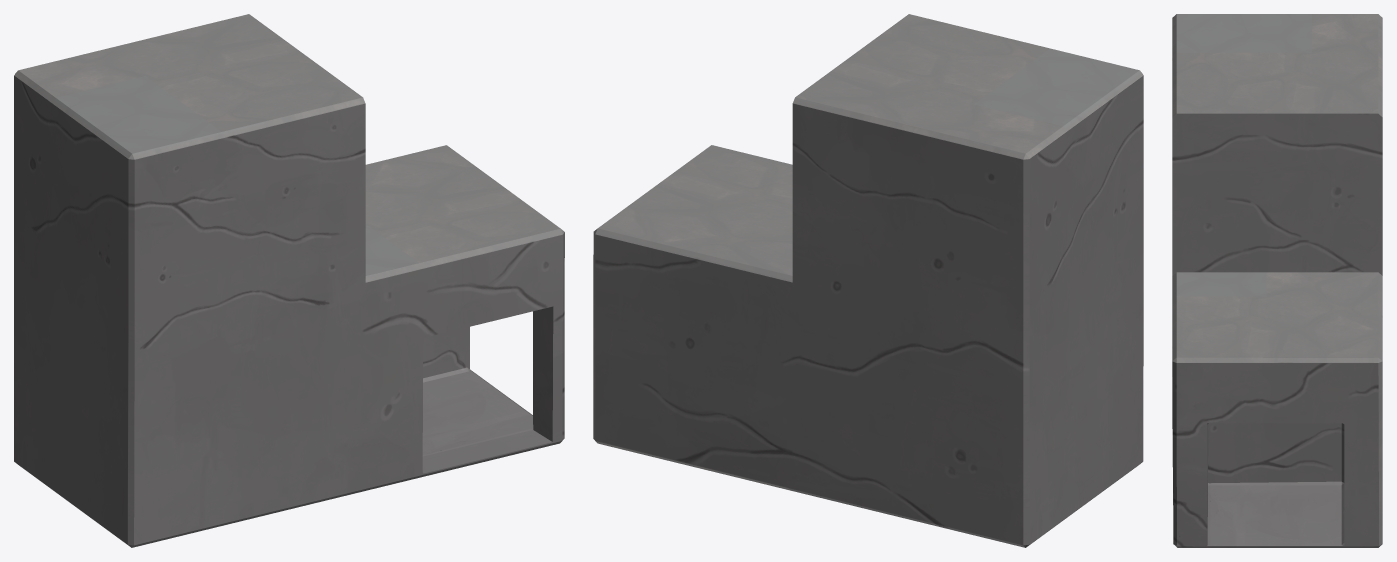
The model's file is platform4.fbx.
3 views of the same model, side by side, from view 1: azimuth 30°, elevation 25°; view 2: azimuth 150°, elevation 25°; view 3: azimuth 270°, elevation 25° (orthographic). The views are drawn at different scales.
Visible parts, largest first — view 1: Cube.042; view 2: Cube.042; view 3: Cube.042.
Part boxes in pixels (x1,y1,x2,y2): Cube.042: (14, 14, 564, 547); Cube.042: (593, 14, 1143, 547); Cube.042: (1172, 14, 1382, 547).
Size of the model in its own units: 7.69 by 6.64 by 3.63.
